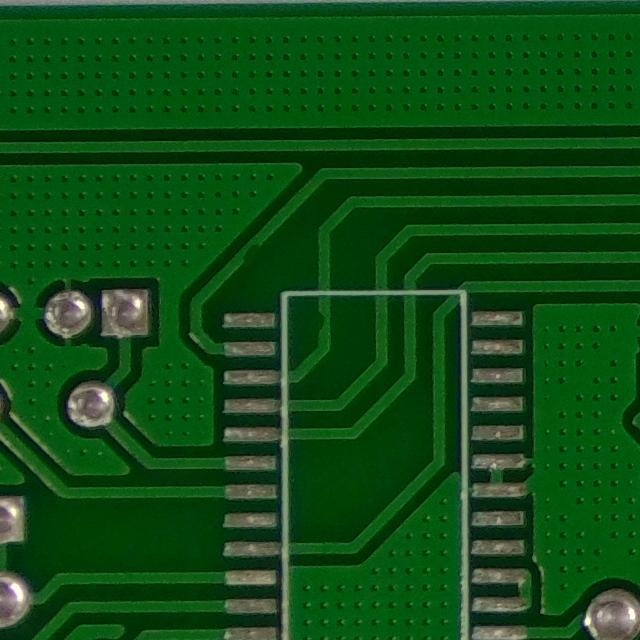mouse_bite: (305, 302, 336, 338)
